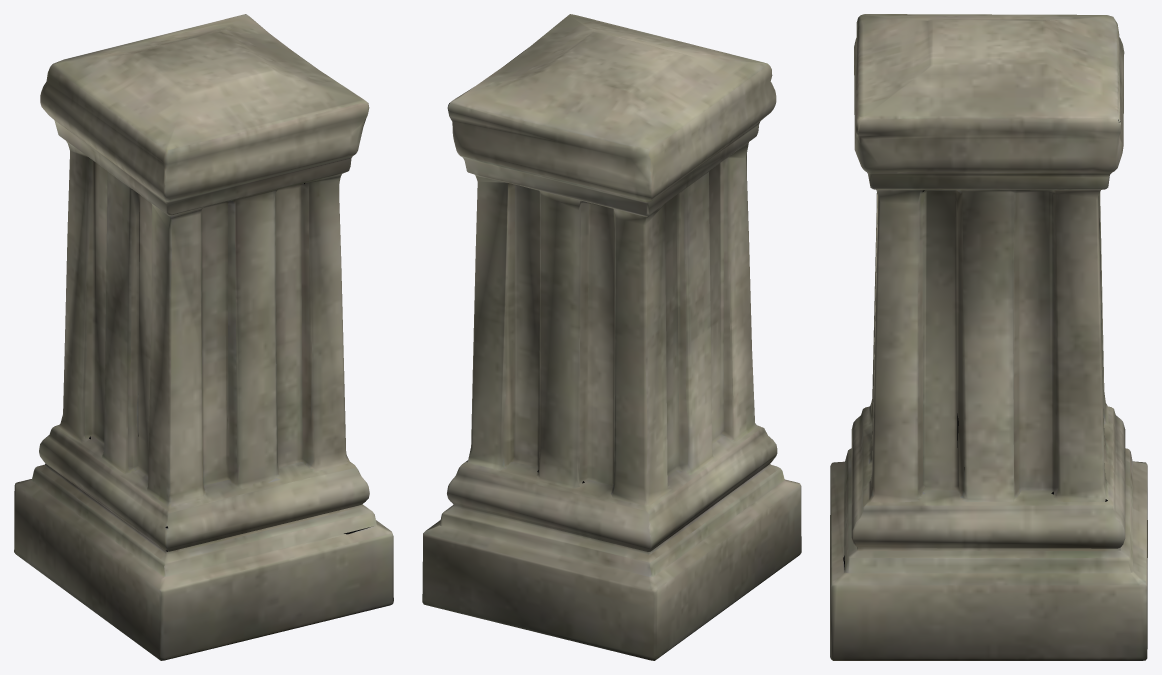
The model's file is weathered-limestone-gate-pillar-v001.glb.
The picture shows the model from 3 angles, left to right: view 1: azimuth 30°, elevation 25°; view 2: azimuth 150°, elevation 25°; view 3: azimuth 270°, elevation 25°; orthographic projection. The views are drawn at different scales.
Parts seen in each view (by area): view 1: weathered-limestone-gate-pillar; view 2: weathered-limestone-gate-pillar; view 3: weathered-limestone-gate-pillar.
Part boxes in pixels (x1,y1,x2,y2): weathered-limestone-gate-pillar: (14, 14, 393, 660); weathered-limestone-gate-pillar: (422, 14, 801, 660); weathered-limestone-gate-pillar: (830, 14, 1147, 660).
Bounding box in the file's own units: 0.9036 × 1.91 × 0.9824.
1 material, 1 textured.
